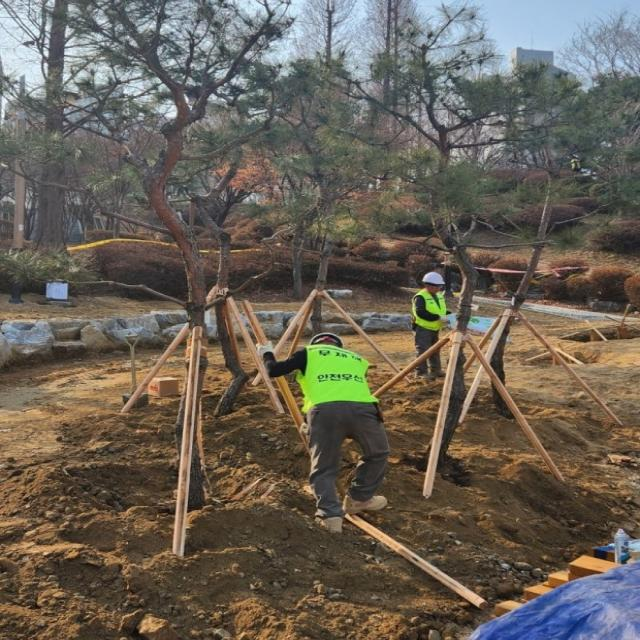plant: (0, 0, 329, 513), (278, 0, 586, 472)
wood: (464, 332, 566, 482), (344, 514, 489, 609), (120, 286, 219, 412), (515, 311, 623, 425), (240, 300, 310, 453), (321, 290, 412, 385), (222, 287, 285, 413), (172, 326, 203, 556), (422, 331, 462, 497), (251, 288, 318, 386), (458, 308, 512, 422), (372, 329, 456, 397), (464, 310, 504, 375)
